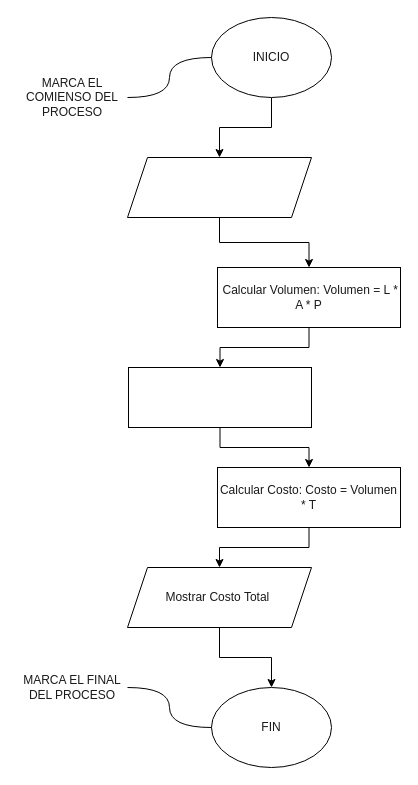
Image size: 418x785. Some labels were removed from this diagram. Here are the shapes that lost their labels. From the top down, the box of each, then its label:
(126, 156, 312, 218): Recibe el Largo (L), Ancho (A), Profundidad (P)
(128, 366, 312, 428): Convertir Volumen a Metros Cúbicos (si es necesario)
